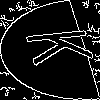K: (25, 25, 100, 67)
